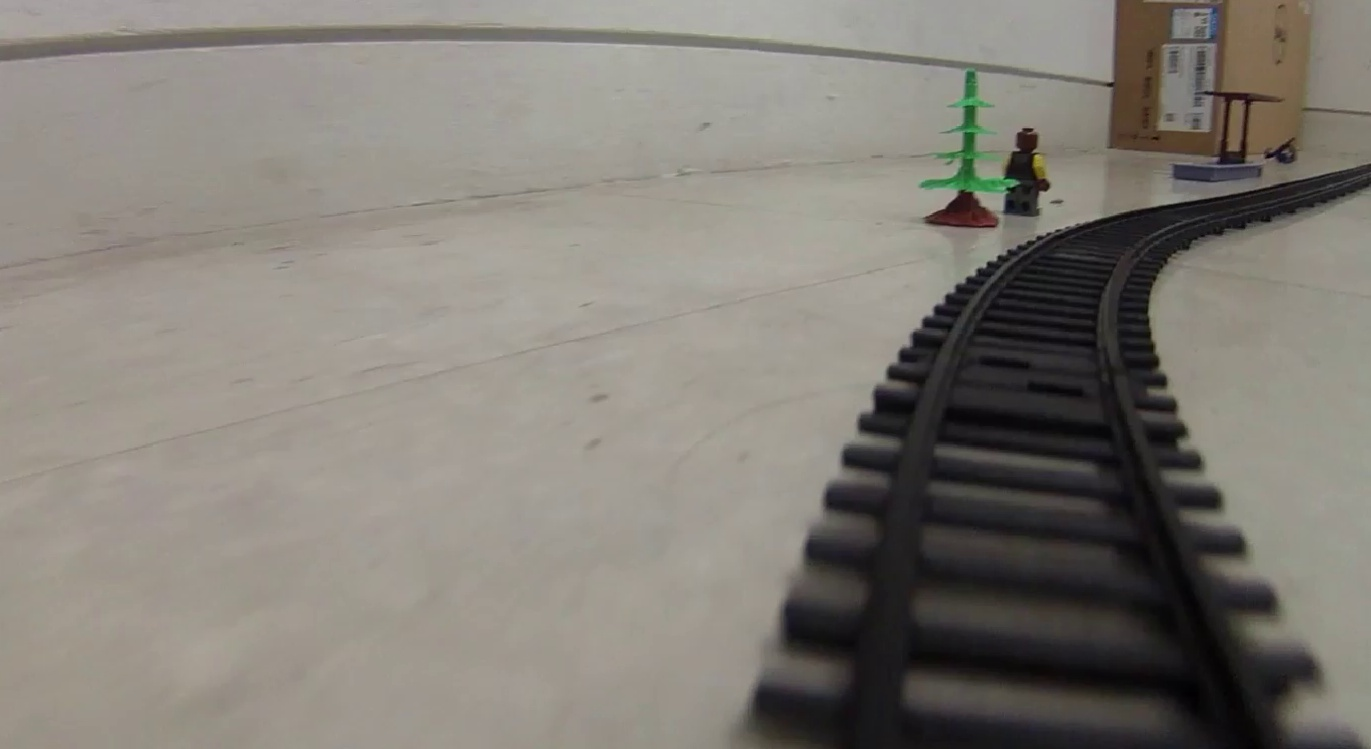people: (1007, 125, 1051, 216)
tree: (919, 69, 1008, 225)
